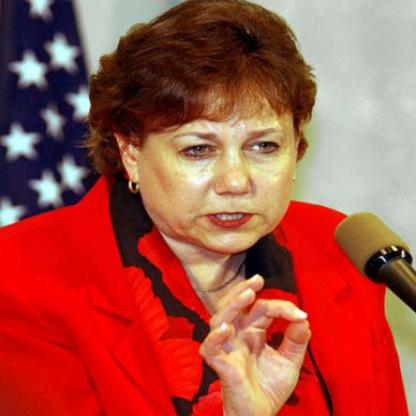face: (136, 45, 302, 257)
